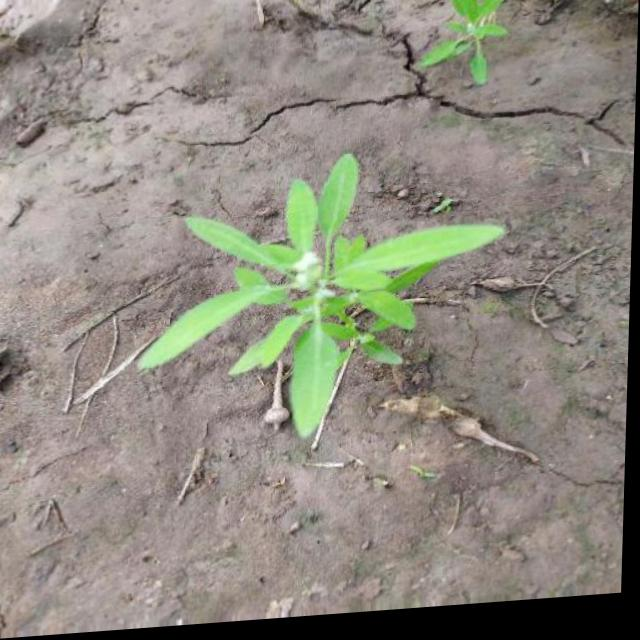weed: (135, 164, 508, 452), (427, 0, 515, 102)
